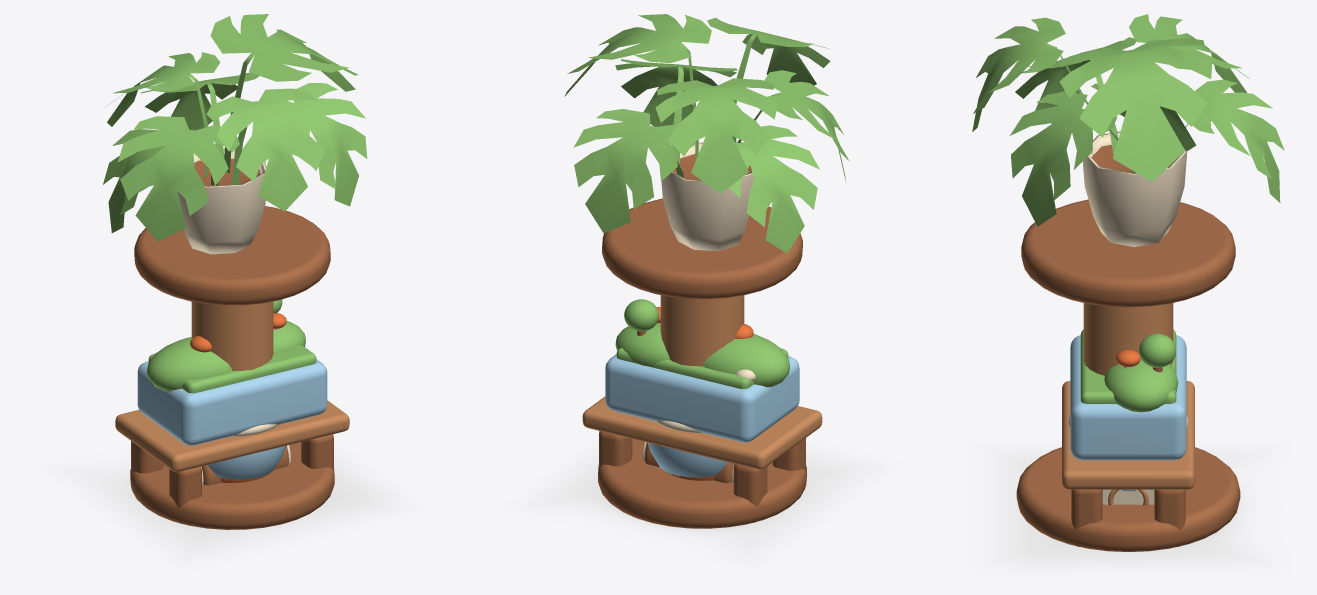
File: interest_nature_v1.glb
The picture shows the model from 3 angles, left to right: view 1: azimuth 30°, elevation 25°; view 2: azimuth 150°, elevation 25°; view 3: azimuth 270°, elevation 25°; orthographic projection. The views are drawn at different scales.
Parts seen in each view (by area): view 1: plant_stand_plant_body, plant_stand_top, shadow_plant_stand, terrarium_bench_box, plant_stand_base, terrarium_bench_top, plant_stand_post, terrarium_bench_hill_-0.1, shadow_terrarium_bench, terrarium_bench_moss, fish_bowl_glass, terrarium_bench_leg_-0.2_-0.1 (+3 smaller); view 2: plant_stand_plant_body, plant_stand_top, shadow_plant_stand, terrarium_bench_box, plant_stand_base, terrarium_bench_top, plant_stand_post, terrarium_bench_hill_-0.1, shadow_terrarium_bench, fish_bowl_glass, terrarium_bench_hill_0.11, terrarium_bench_moss (+4 smaller); view 3: plant_stand_plant_body, plant_stand_top, shadow_plant_stand, plant_stand_base, terrarium_bench_box, terrarium_bench_top, plant_stand_post, shadow_terrarium_bench, terrarium_bench_hill_0.11, terrarium_bench_moss, terrarium_bench_leg_0.2_0.1, terrarium_bench_leg_0.2_-0.1 (+2 smaller).
Part boxes in pixels (x1,y1,x2,y2): plant_stand_plant_body: [103, 14, 367, 254]; plant_stand_top: [134, 206, 330, 305]; shadow_plant_stand: [50, 451, 414, 565]; terrarium_bench_box: [137, 359, 327, 445]; plant_stand_base: [130, 442, 334, 529]; terrarium_bench_top: [115, 400, 349, 472]; plant_stand_post: [191, 301, 273, 370]; terrarium_bench_hill_-0.1: [146, 337, 232, 391]; shadow_terrarium_bench: [121, 458, 393, 537]; terrarium_bench_moss: [148, 344, 316, 393]; fish_bowl_glass: [207, 446, 285, 479]; terrarium_bench_leg_-0.2_-0.1: [169, 466, 201, 523]; plant_stand_plant_body: [564, 14, 849, 253]; plant_stand_top: [602, 198, 802, 299]; shadow_plant_stand: [516, 445, 888, 565]; terrarium_bench_box: [605, 354, 799, 442]; plant_stand_base: [598, 439, 806, 528]; terrarium_bench_top: [582, 396, 822, 469]; plant_stand_post: [660, 295, 744, 366]; terrarium_bench_hill_-0.1: [703, 334, 789, 387]; shadow_terrarium_bench: [553, 459, 834, 530]; fish_bowl_glass: [648, 443, 727, 477]; terrarium_bench_hill_0.11: [615, 323, 669, 366]; terrarium_bench_moss: [616, 348, 788, 388]; plant_stand_plant_body: [972, 14, 1284, 247]; plant_stand_top: [1021, 199, 1235, 307]; shadow_plant_stand: [982, 445, 1274, 569]; plant_stand_base: [1016, 447, 1240, 551]; terrarium_bench_box: [1070, 335, 1186, 460]; terrarium_bench_top: [1062, 381, 1194, 489]; plant_stand_post: [1083, 303, 1173, 375]; shadow_terrarium_bench: [1020, 514, 1236, 567]; terrarium_bench_hill_0.11: [1104, 359, 1178, 412]; terrarium_bench_moss: [1080, 329, 1176, 403]; terrarium_bench_leg_0.2_0.1: [1154, 489, 1185, 546]; terrarium_bench_leg_0.2_-0.1: [1071, 489, 1102, 546].
Size of the model in its own units: 0.7822 by 1.19 by 0.78.
7 materials, 1 textured.
